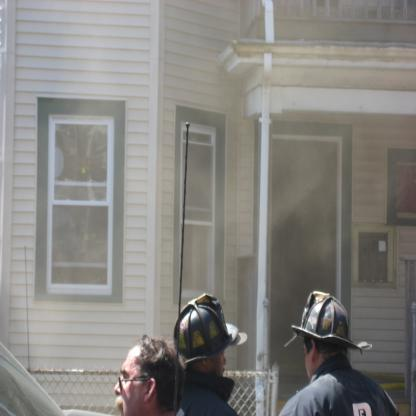Helmet: (173, 291, 239, 368), (294, 296, 371, 354)
